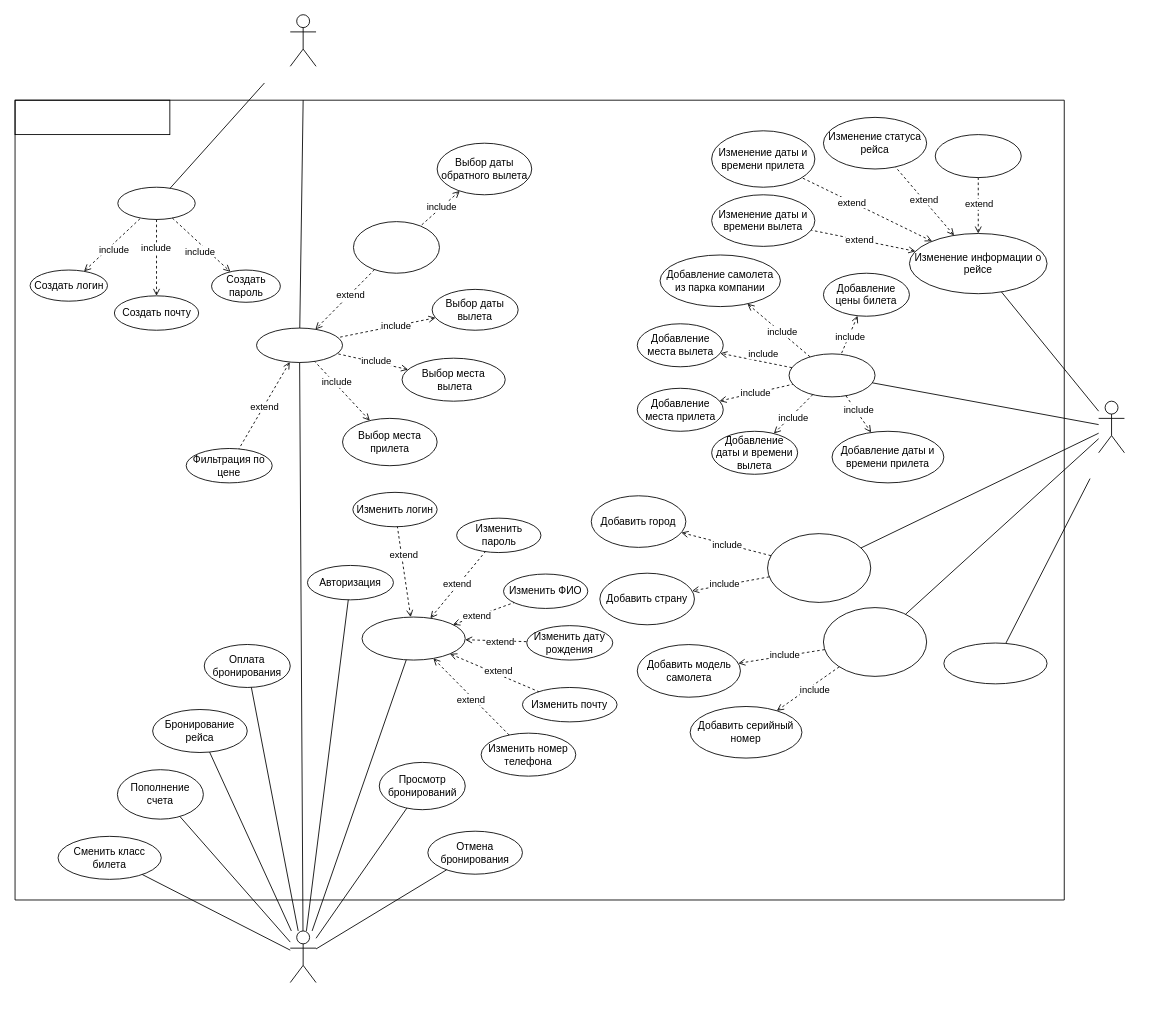
This 1164x1029 diagram has some shape labels left out. Each missing label, with the centre of its shape:
"Авиакомпания" goes at point 92,117.
"Авторизация администратора" goes at point 995,663.
"Администратор" goes at point 1111,426.
"Добавить аэропорт в список доступных" goes at point 819,567.
"Добавить обратный билет" goes at point 396,247.
"Добавить самолет в парк авиакомпании" goes at point 875,641.
"Добавление рейса" goes at point 831,375.
"Зарегистрированный пользователь" goes at point 302,956.
"Изменение цены билета" goes at point 977,156.
"Незарегистрированный пользователь" goes at point 302,40.
"Поиск рейсов" goes at point 299,344.
"Регистрация" goes at point 156,202.
"Редактирование профиля" goes at point 413,638.
